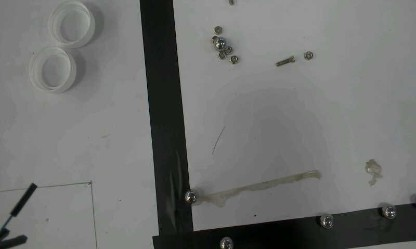ironball: (381, 204, 396, 219), (319, 214, 333, 229), (211, 35, 225, 49), (184, 190, 196, 204), (219, 237, 232, 249)
